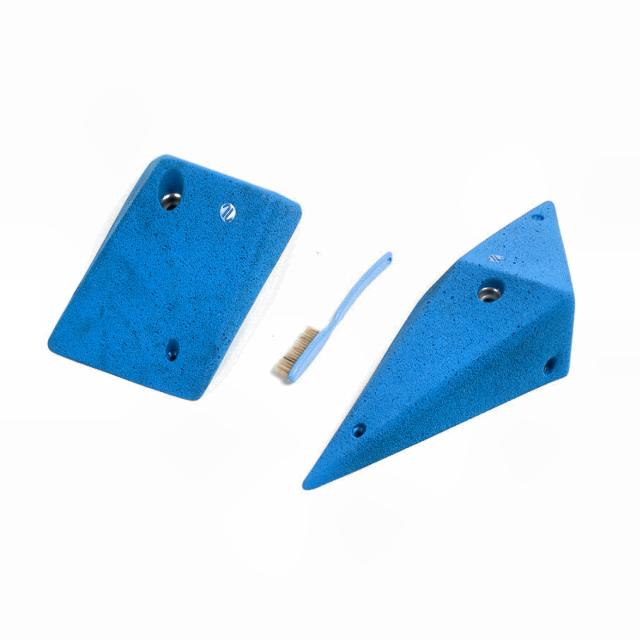Hold: (307, 203, 583, 490), (42, 156, 298, 400)
